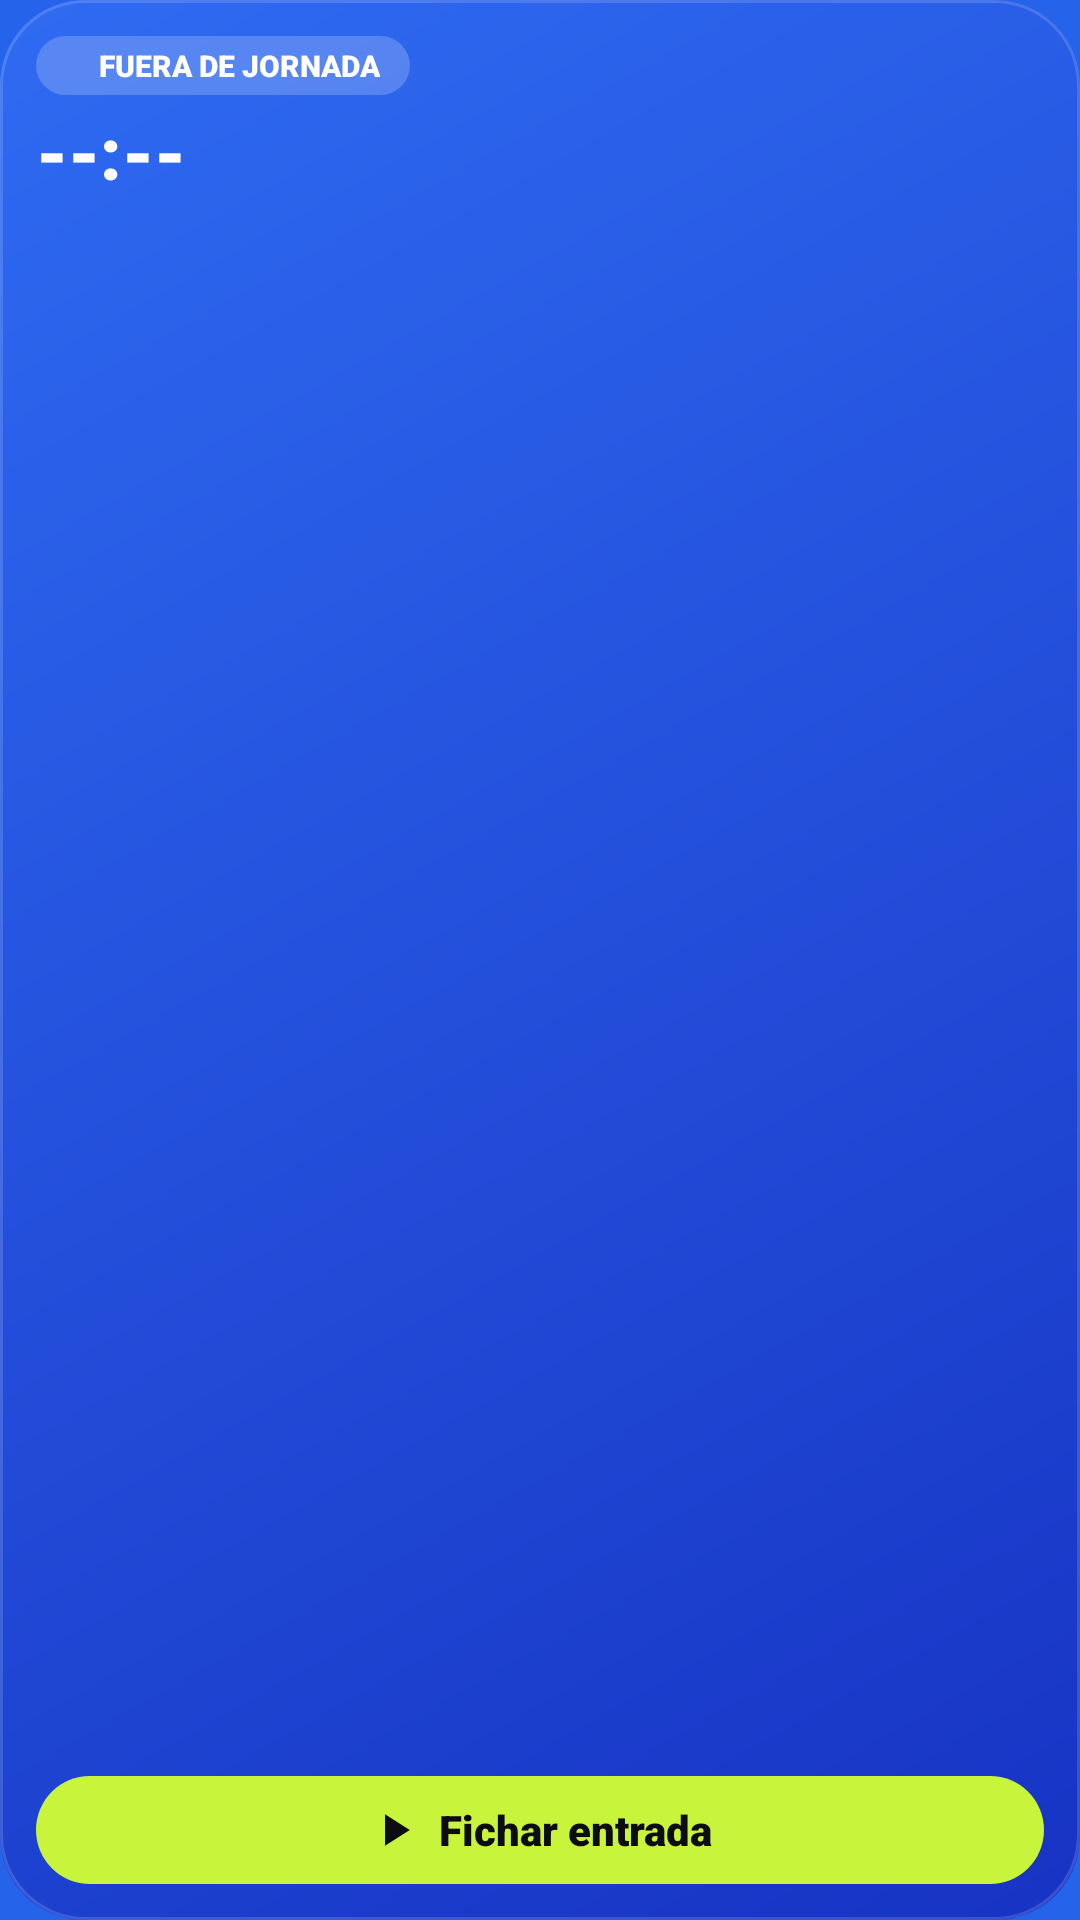

Named icons in this screenshot (1080*1920) and their centers, (x=x, y=y):
widget play: (x=397, y=1830)
